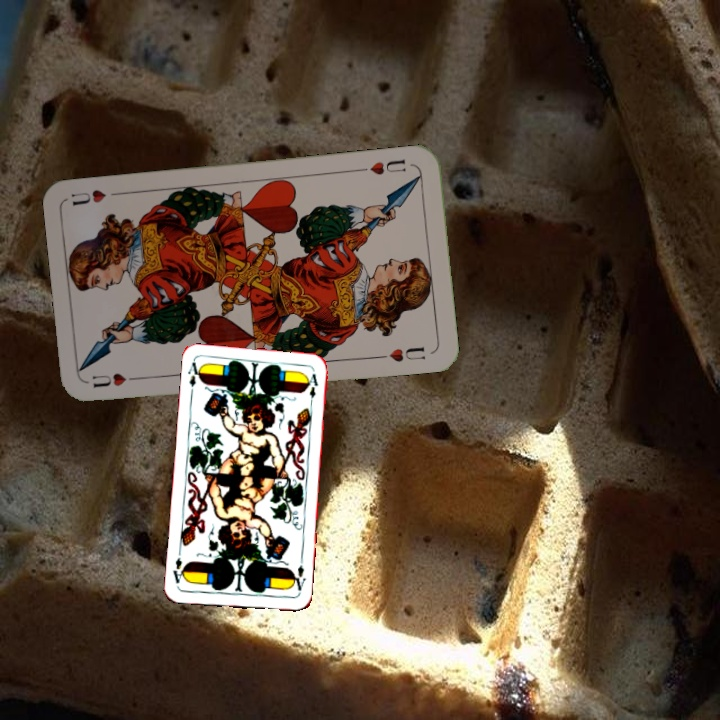EA: (288, 555, 308, 596), (184, 358, 204, 399)
HU: (355, 155, 409, 178), (89, 369, 144, 390)
